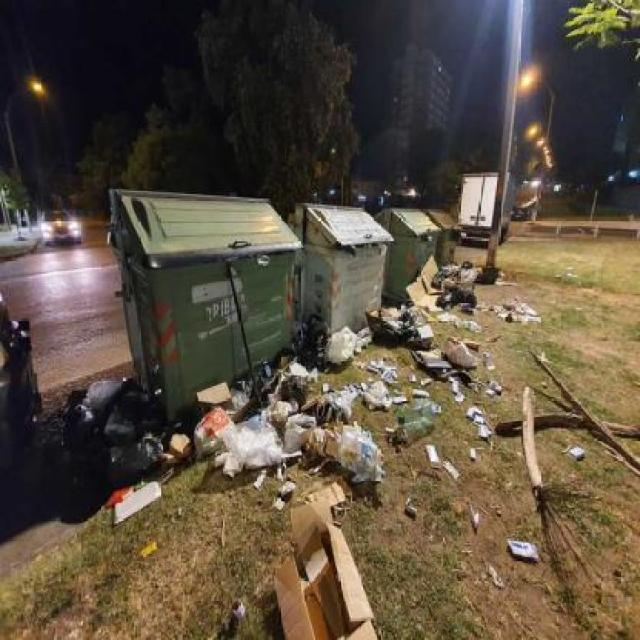garbage: (188, 391, 381, 502), (54, 378, 181, 514), (278, 505, 370, 640), (366, 299, 504, 379), (246, 305, 362, 386), (388, 391, 492, 454), (403, 249, 504, 302), (463, 499, 540, 560), (563, 442, 587, 464), (399, 495, 416, 518)
